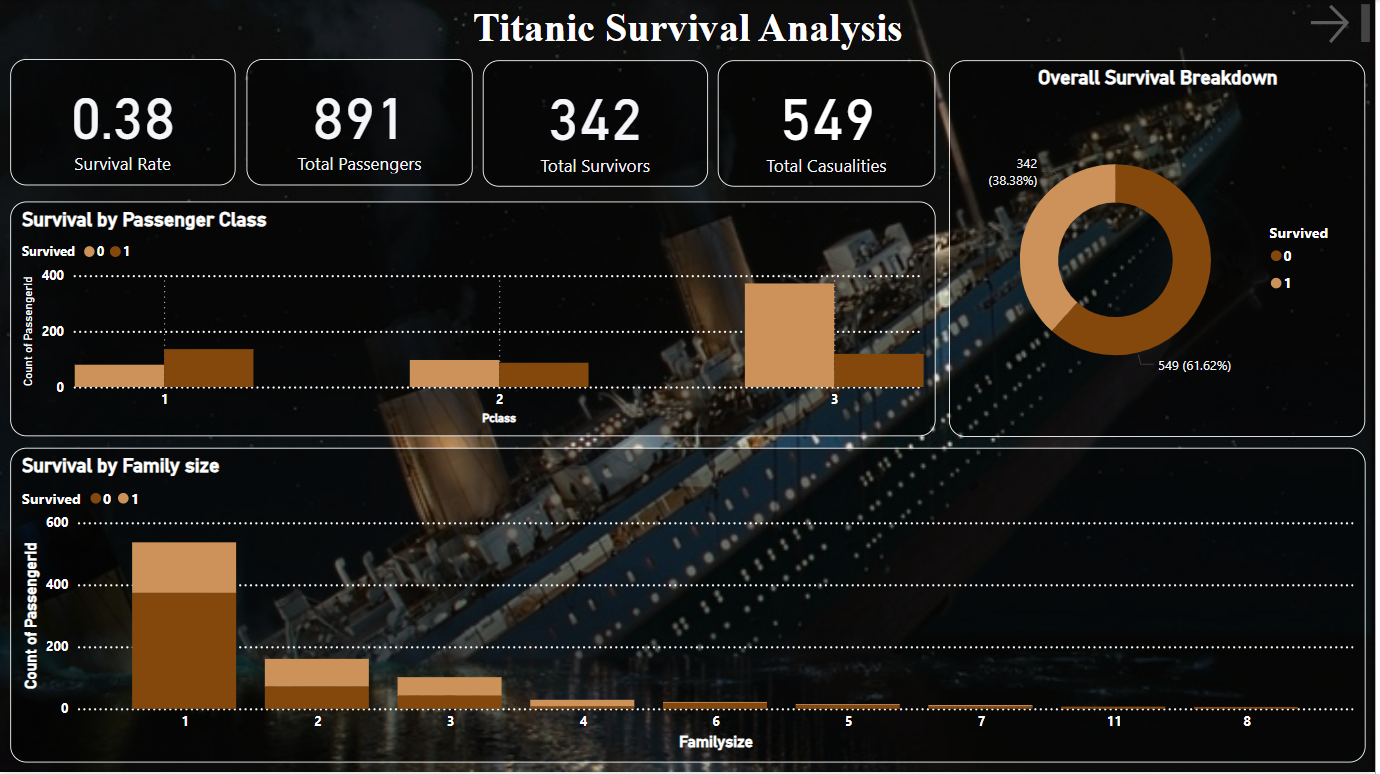

The page's visual inventory and layout, read from the dashboard file:
{"tool":"powerbi","page":{"name":"Survival Analysis","canvas":[1280,720],"ordinal":0},"visuals":[{"type":"clusteredColumnChart","title":"Survival by Passenger Class","fields":{"Category":["train.Pclass"],"Y":["CountNonNull(train.PassengerId)"],"Series":["train.Survived"]},"box":[10.5,188.4,860.5,218.6],"z":0},{"type":"columnChart","title":"Survival by Family size","fields":{"Category":["train.Familysize"],"Y":["CountNonNull(train.PassengerId)"],"Series":["train.Survived"]},"box":[10.5,417.4,1260.5,293],"z":1},{"type":"donutChart","title":"Overall Survival Breakdown","fields":{"Y":["CountNonNull(train.PassengerId)"],"Category":["train.Survived"]},"box":[883.7,57,387.2,350],"z":2},{"type":"card","fields":{"Values":["train.Survival Rate"]},"box":[10.5,55.8,209.3,117.4],"z":3},{"type":"card","fields":{"Values":["CountNonNull(train.PassengerId)"]},"box":[230.2,55.8,210.5,117.4],"z":4},{"type":"textbox","box":[0,0,1280.2,55.8],"z":5},{"type":"card","fields":{"Values":["CountNonNull(train.PassengerId)"]},"box":[450,57,209.3,117.4],"z":6},{"type":"card","fields":{"Values":["CountNonNull(train.PassengerId)"]},"box":[668.6,57,202.3,117.4],"z":7},{"type":"actionButton","box":[1214,0,66.3,46.5],"z":8}]}

Visuals, with their boxes in screenshot pixels (x1, y1, x2, y2), scaled from the page's 1280x720 canvas onto the 1380x774 screenshot:
"Survival by Passenger Class" clusteredColumnChart: crop(11, 203, 939, 438)
"Survival by Family size" columnChart: crop(11, 449, 1370, 764)
"Overall Survival Breakdown" donutChart: crop(953, 61, 1370, 438)
card - train.Survival Rate: crop(11, 60, 237, 186)
card - CountNonNull(train.PassengerId): crop(248, 60, 475, 186)
textbox: crop(0, 0, 1379, 60)
card - CountNonNull(train.PassengerId): crop(485, 61, 711, 187)
card - CountNonNull(train.PassengerId): crop(721, 61, 939, 187)
actionButton: crop(1309, 0, 1379, 50)
